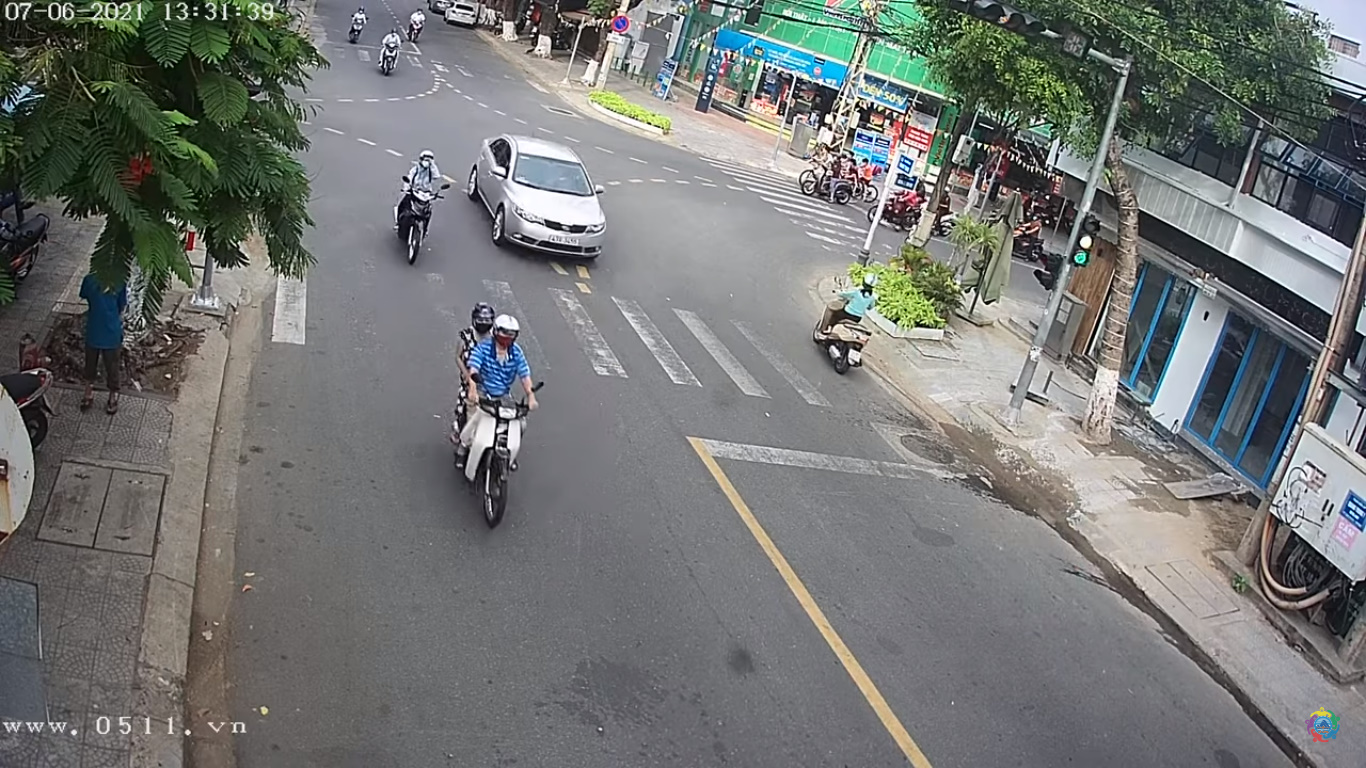car: (460, 131, 624, 267)
motorbike: (449, 303, 537, 523), (392, 151, 444, 259)
